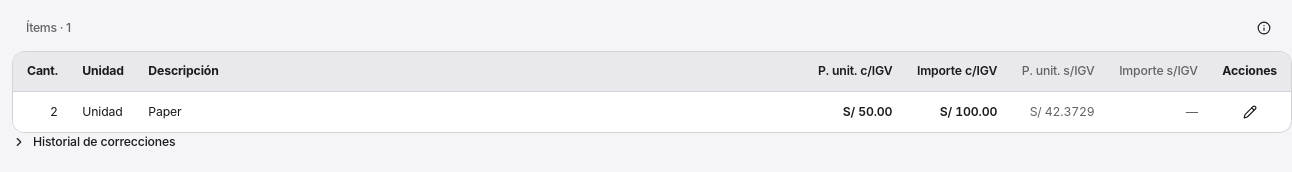
Test: renders the Items count and explanation tooltip in es
This screenshot has width=1292, height=172.
Check: the text "Los valores impresos están en negrita; los otros precios son calculados." is not shown
Focus the button named "Los valores impresos están en negrita; los otros precios son calculados." at (1264,28), box top-left (1250, 14), bottom-right (1278, 42)
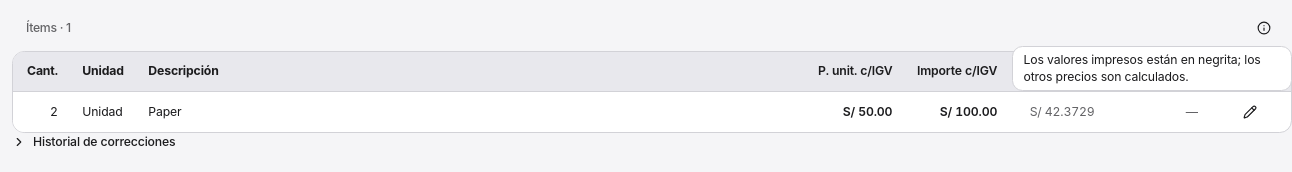
Check: the tooltip reads "Los valores impresos están en negrita; los otros precios son calculados.", box top-left (1024, 52), bottom-right (1261, 84)
